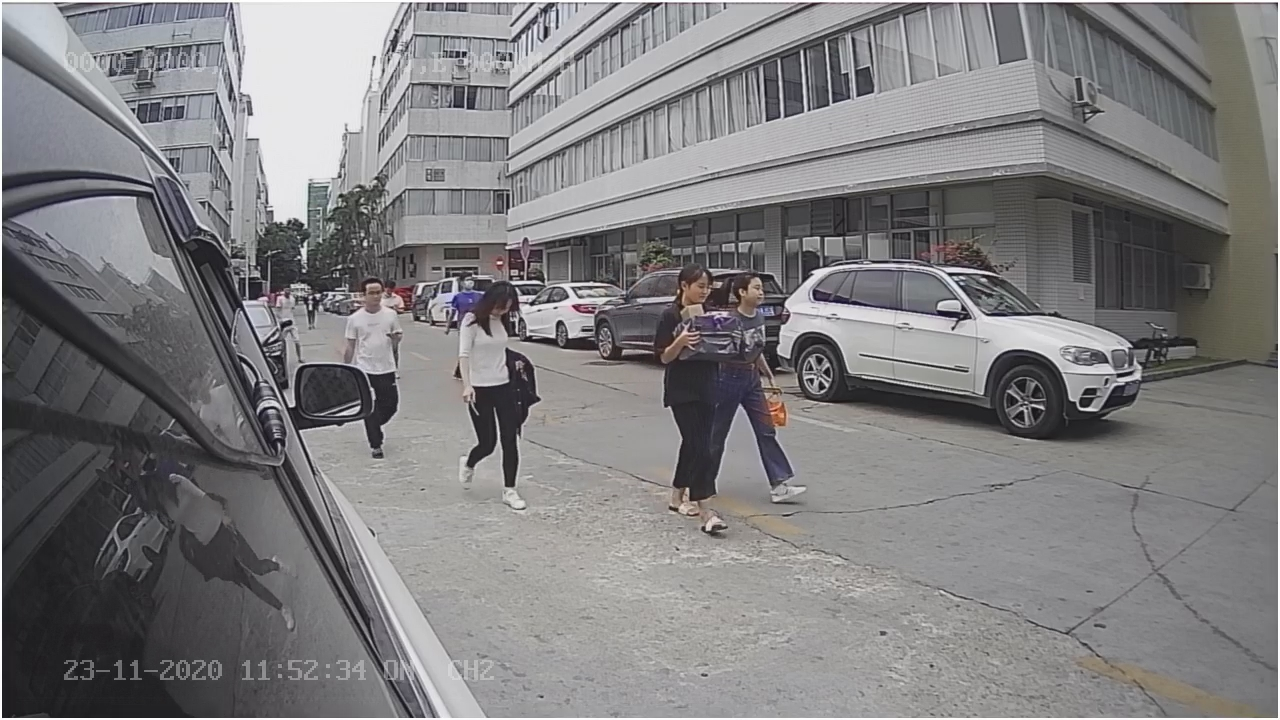person: (458, 288, 528, 496), (342, 278, 408, 361)
